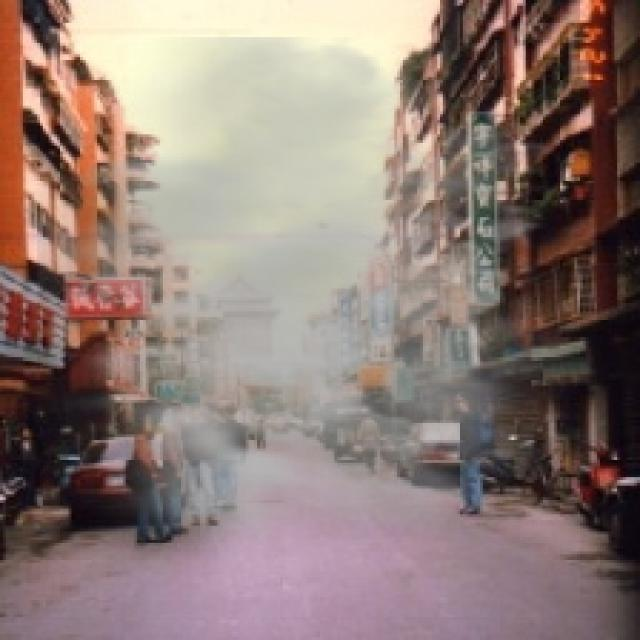Smoke: (37, 37, 603, 574)
